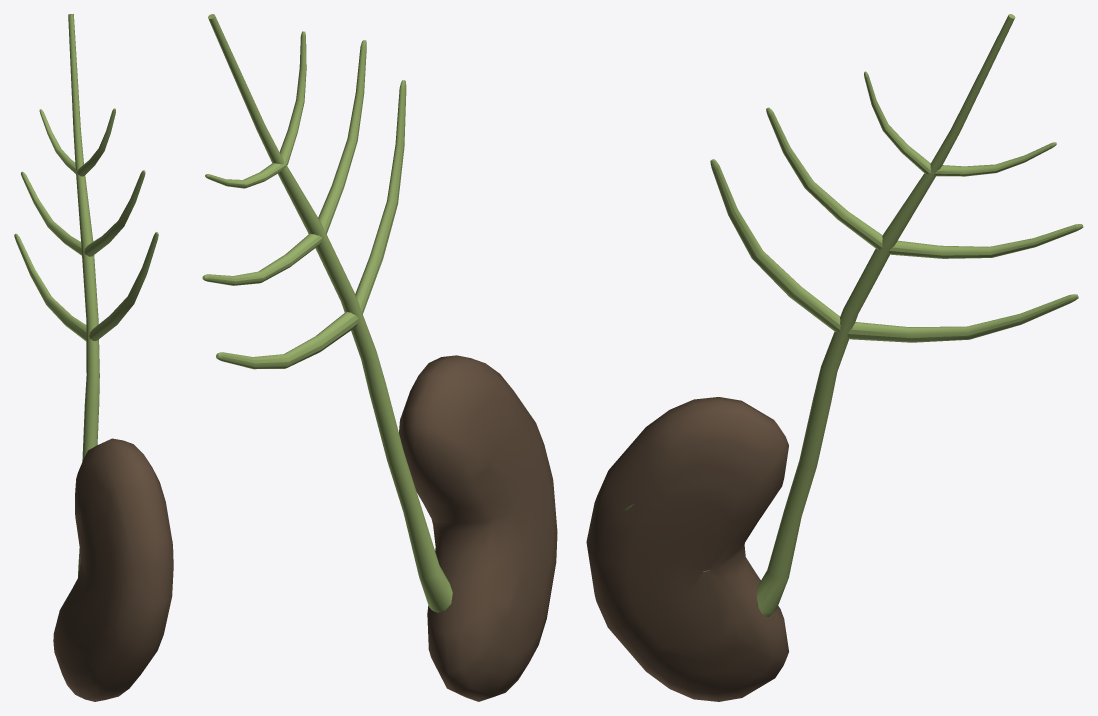
The model's file is seeding anim.fbx.
3 views of the same model, side by side, from view 1: azimuth 30°, elevation 25°; view 2: azimuth 150°, elevation 25°; view 3: azimuth 270°, elevation 25° (orthographic). The views are drawn at different scales.
Visible parts, largest first — view 1: Seed, Stem, pCylinder5, pCylinder4, pCylinder2, pCylinder3, Roots, pCylinder6; view 2: Seed, Stem, pCylinder5, pCylinder4, pCylinder2, pCylinder3, Roots, pCylinder6; view 3: Seed, Stem, pCylinder4, pCylinder5, pCylinder3, pCylinder2, pCylinder6, Roots.
Part boxes in pixels (x1,y1,x2,y2): Seed: [53, 438, 173, 701]; Stem: [68, 14, 172, 576]; pCylinder5: [89, 232, 158, 341]; pCylinder4: [14, 233, 86, 341]; pCylinder2: [84, 170, 145, 256]; pCylinder3: [21, 171, 81, 255]; Roots: [77, 108, 115, 176]; pCylinder6: [39, 109, 77, 173]; Seed: [399, 355, 557, 701]; Stem: [208, 14, 452, 612]; pCylinder5: [355, 80, 406, 314]; pCylinder4: [216, 312, 358, 369]; pCylinder2: [318, 40, 366, 234]; pCylinder3: [202, 234, 322, 285]; Roots: [279, 31, 306, 164]; pCylinder6: [205, 162, 286, 188]; Seed: [586, 397, 788, 701]; Stem: [623, 14, 1015, 616]; pCylinder4: [847, 294, 1078, 342]; pCylinder5: [710, 159, 840, 332]; pCylinder3: [889, 224, 1083, 258]; pCylinder2: [766, 107, 882, 249]; pCylinder6: [930, 142, 1056, 176]; Roots: [864, 71, 930, 174].
Bounding box in the file's own units: 11.45 × 51.86 × 31.47.
